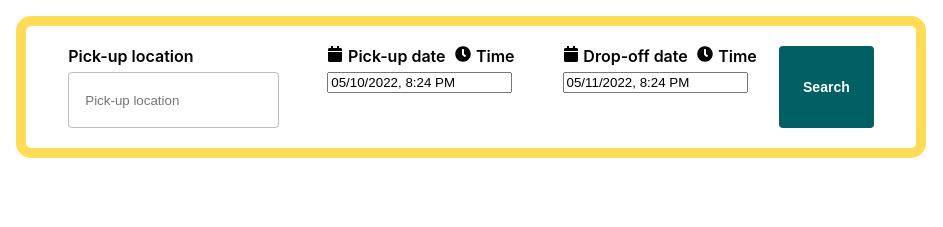
Scenario: Autocomplete Search Page › Should render autocomplete results
In the field labelled "Pick-up location": (174, 100) [68,72,279,128], type "man"
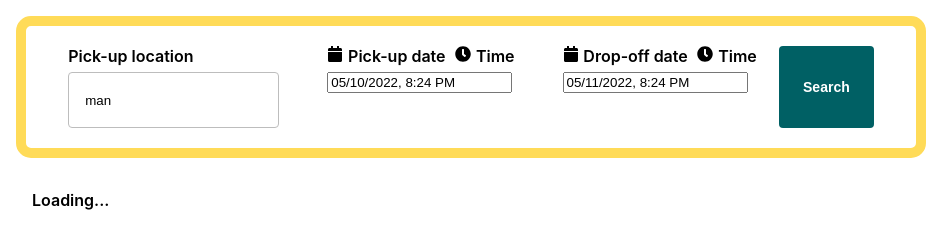
Now the text "Loading..." is shown, box [32,190,109,210]
